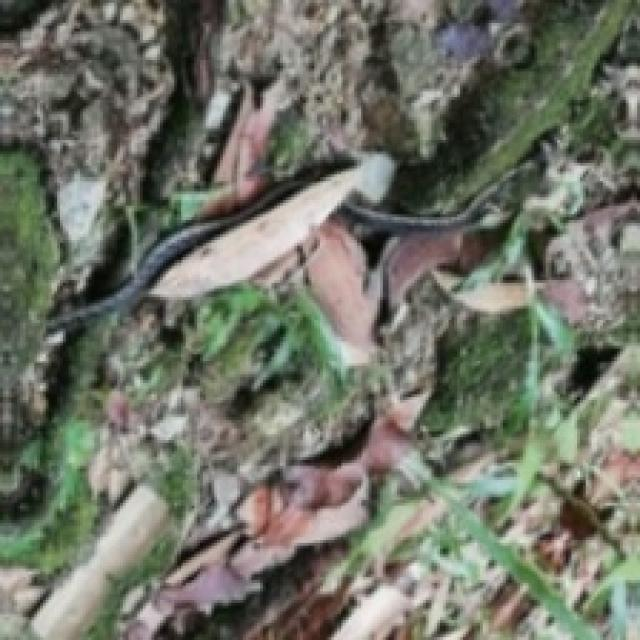king cobra: (50, 176, 320, 331), (341, 187, 499, 233)
